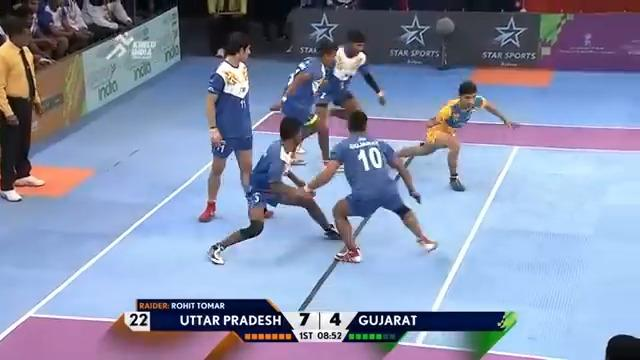Player: (304, 109, 438, 263), (206, 114, 342, 265), (197, 31, 272, 222), (297, 29, 386, 169), (273, 38, 339, 169)
Raider: (394, 79, 518, 191)
referee: (0, 6, 46, 201)
